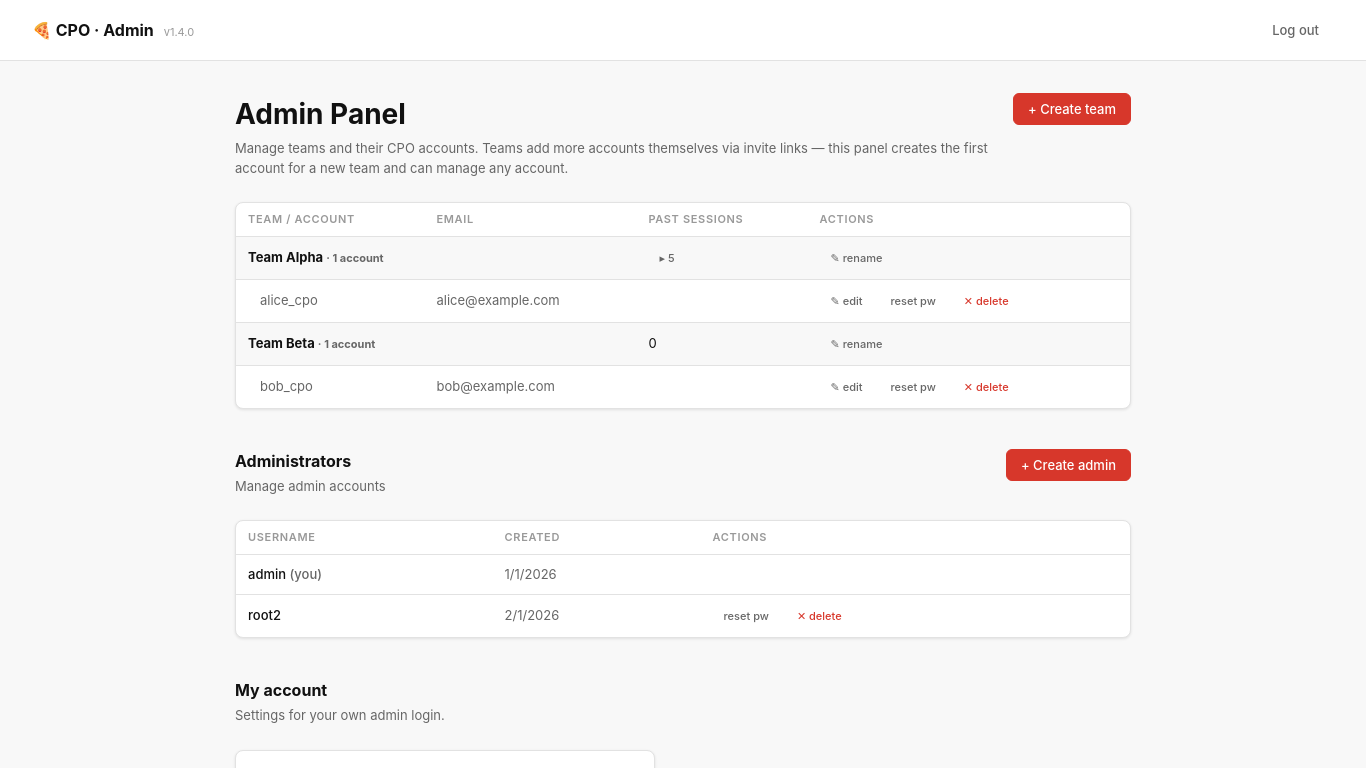
Test: AdminPanel › usage stats › expands and collapses the latest sessions on click
The image size is (1366, 768).
Expected: the text "2026-07-10" is not shown
Click the button "▸ 5" at (667, 258), box [648,246,686,268]
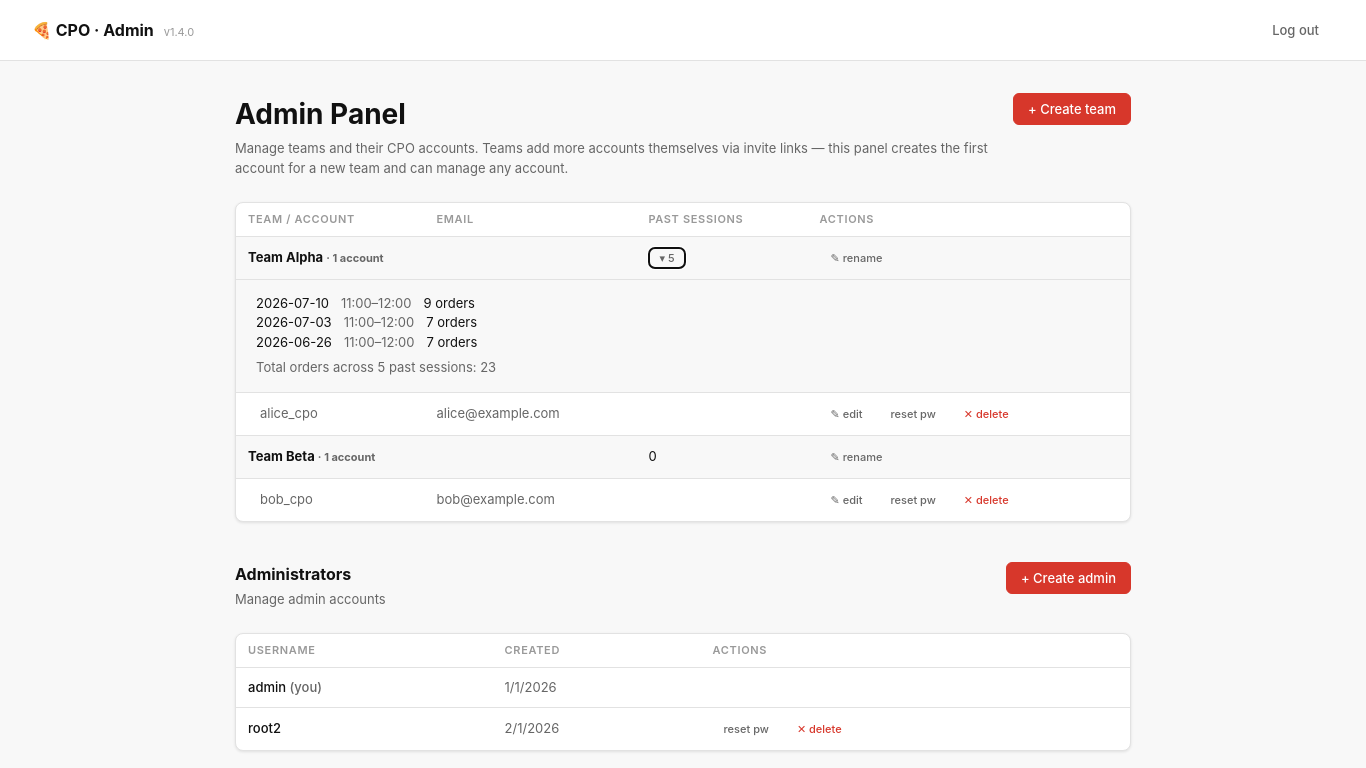
Expected: the text "2026-07-10" is shown, [256,294,329,313]
Expected: the text "9 orders" is shown, [424,294,475,313]
Expected: the text "Total orders across 5 past sessions: 23" is shown, [256,359,496,375]
Click the button "▾ 5" at (667, 258), box [648,246,686,268]
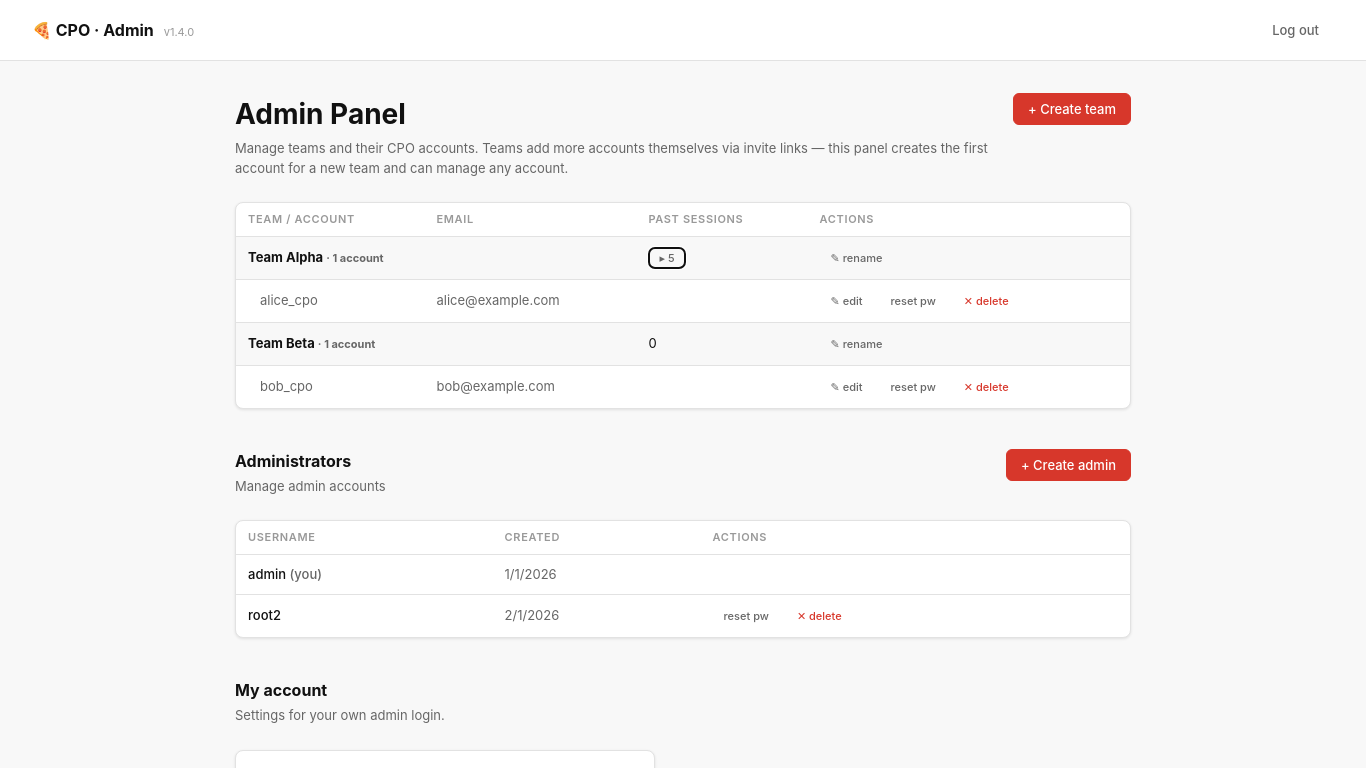
Expected: the text "2026-07-10" is gone
